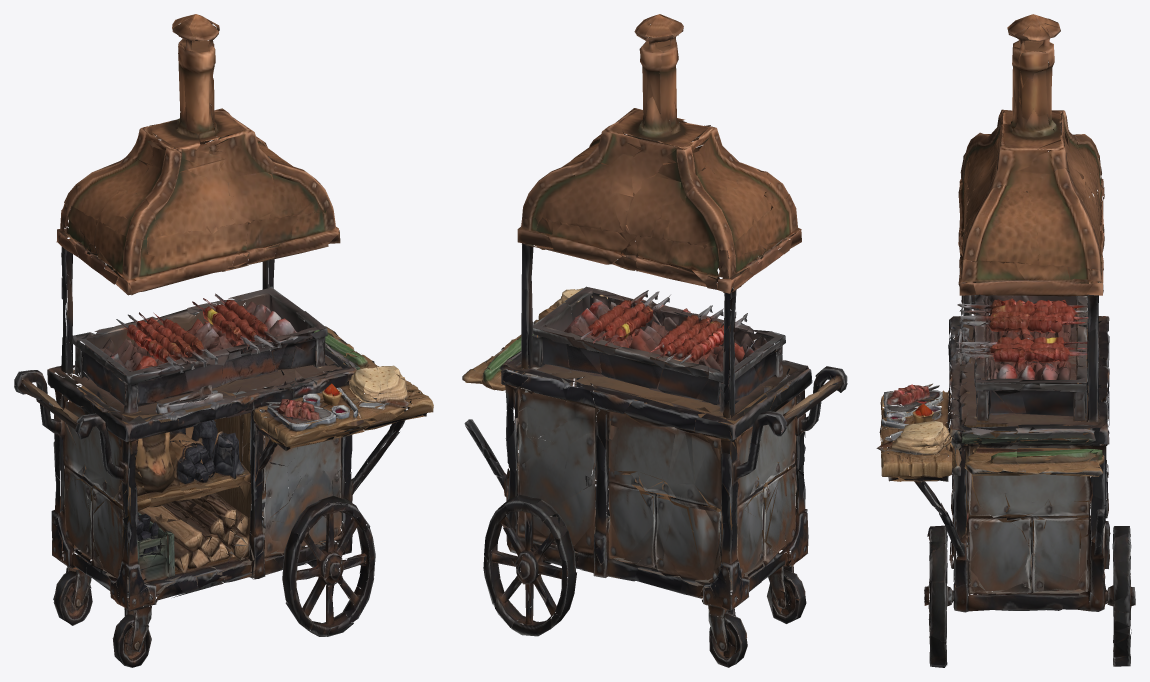
The model's file is KebabGrill.fbx.
The picture shows the model from 3 angles, left to right: view 1: azimuth 30°, elevation 25°; view 2: azimuth 150°, elevation 25°; view 3: azimuth 270°, elevation 25°; orthographic projection.
Parts seen in each view (by area): view 1: KebabGrill; view 2: KebabGrill; view 3: KebabGrill.
Boxes of the visible parts, left/top/right/bottom form: KebabGrill: left=14, top=14, right=433, bottom=667; KebabGrill: left=462, top=14, right=847, bottom=667; KebabGrill: left=876, top=14, right=1135, bottom=667.
Size of the model in its own units: 1.7 by 3.1 by 1.2.
1 material, 1 textured.
